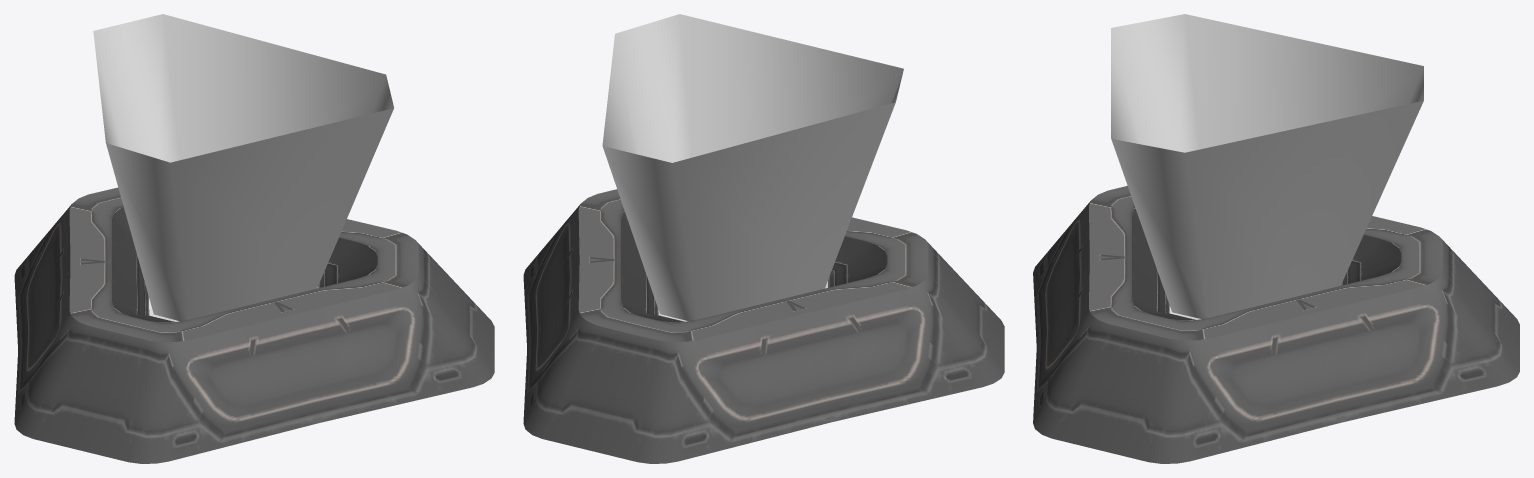
File: S_PropItemHolder.gltf
3 views of the same model, side by side, from view 1: azimuth 30°, elevation 25°; view 2: azimuth 150°, elevation 25°; view 3: azimuth 270°, elevation 25° (orthographic).
Parts seen in each view (by area): view 1: Plane_144-col; view 2: Plane_144-col; view 3: Plane_144-col.
Boxes of the visible parts, x1,y1,x2,y2 form: Plane_144-col: (14, 14, 494, 463); Plane_144-col: (523, 14, 1004, 463); Plane_144-col: (1033, 14, 1519, 463).
Size of the model in its own units: 0.8186 by 0.4358 by 0.7267.
Materials: 3 (2 with a texture image).
